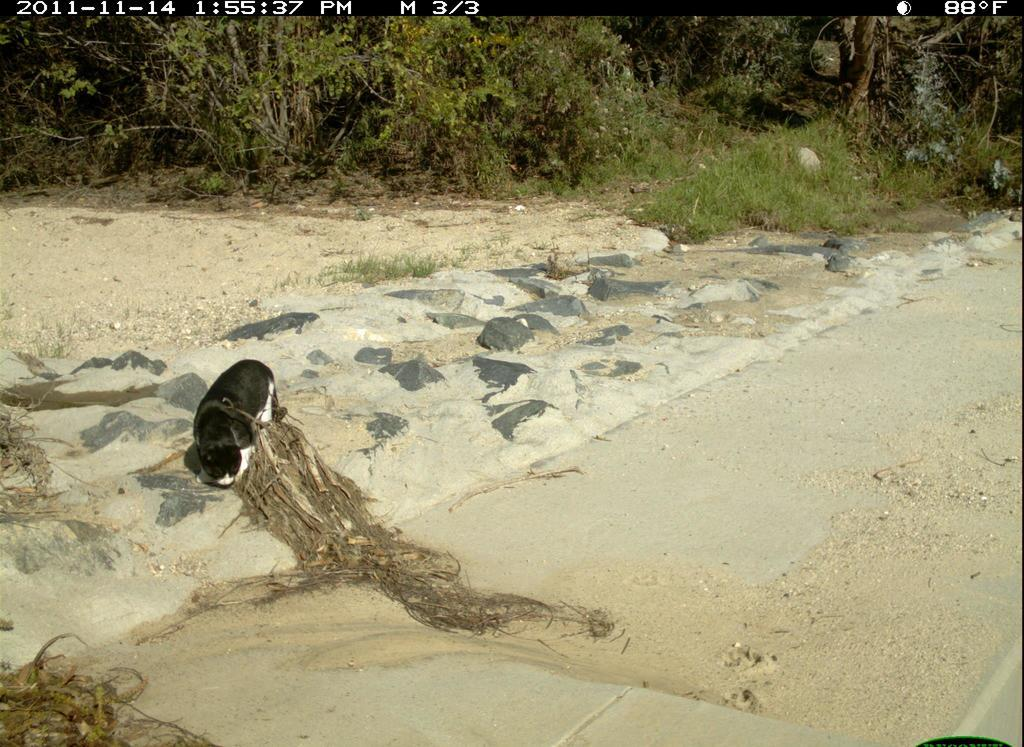cat: (191, 354, 289, 508)
